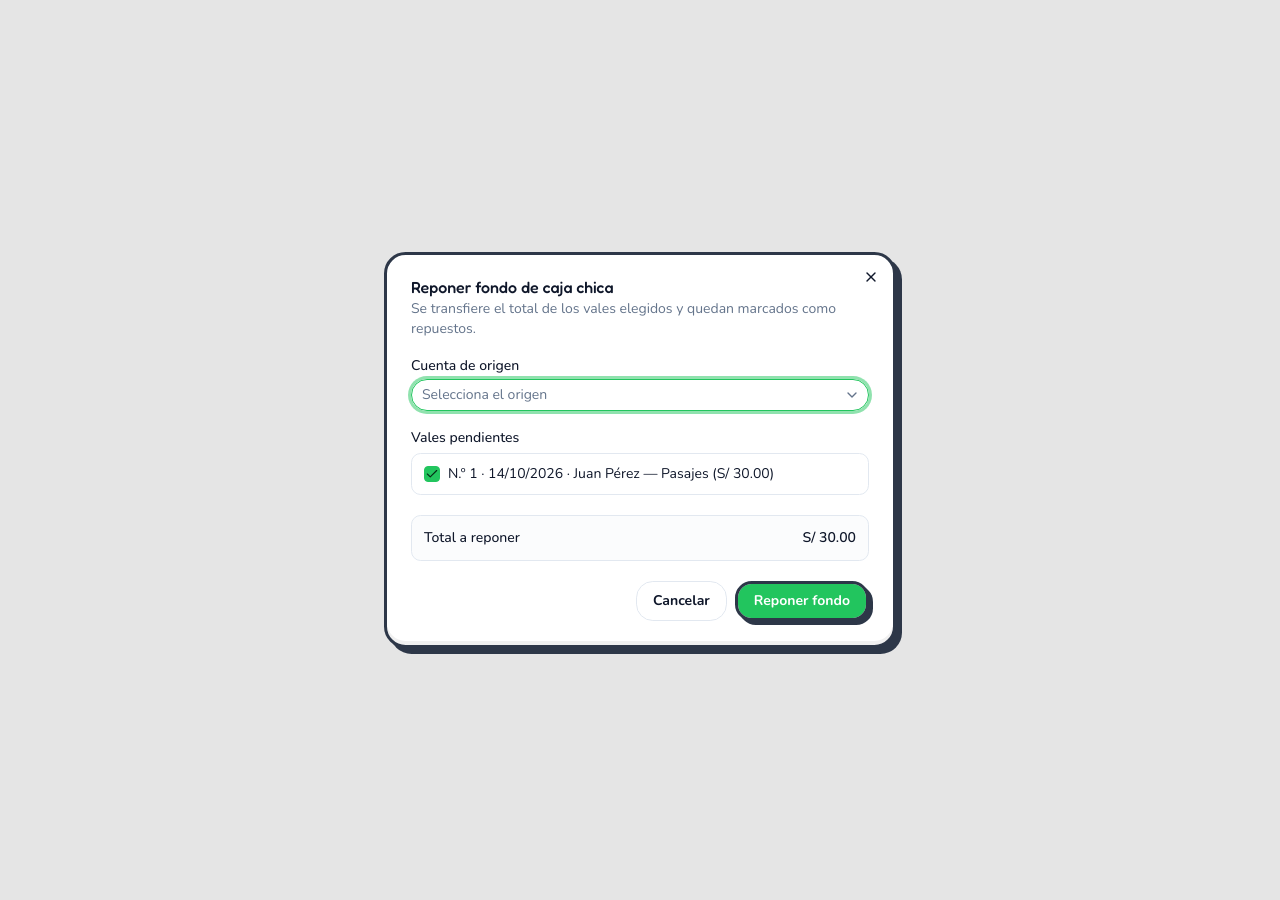
Scenario: PettyCashReplenishModal › exige elegir la cuenta de origen cuando hay varias candidatas
The width and height of the screenshot is (1280, 900).
Click the button "Reponer fondo" at x=802, y=601, box [735, 581, 869, 621]
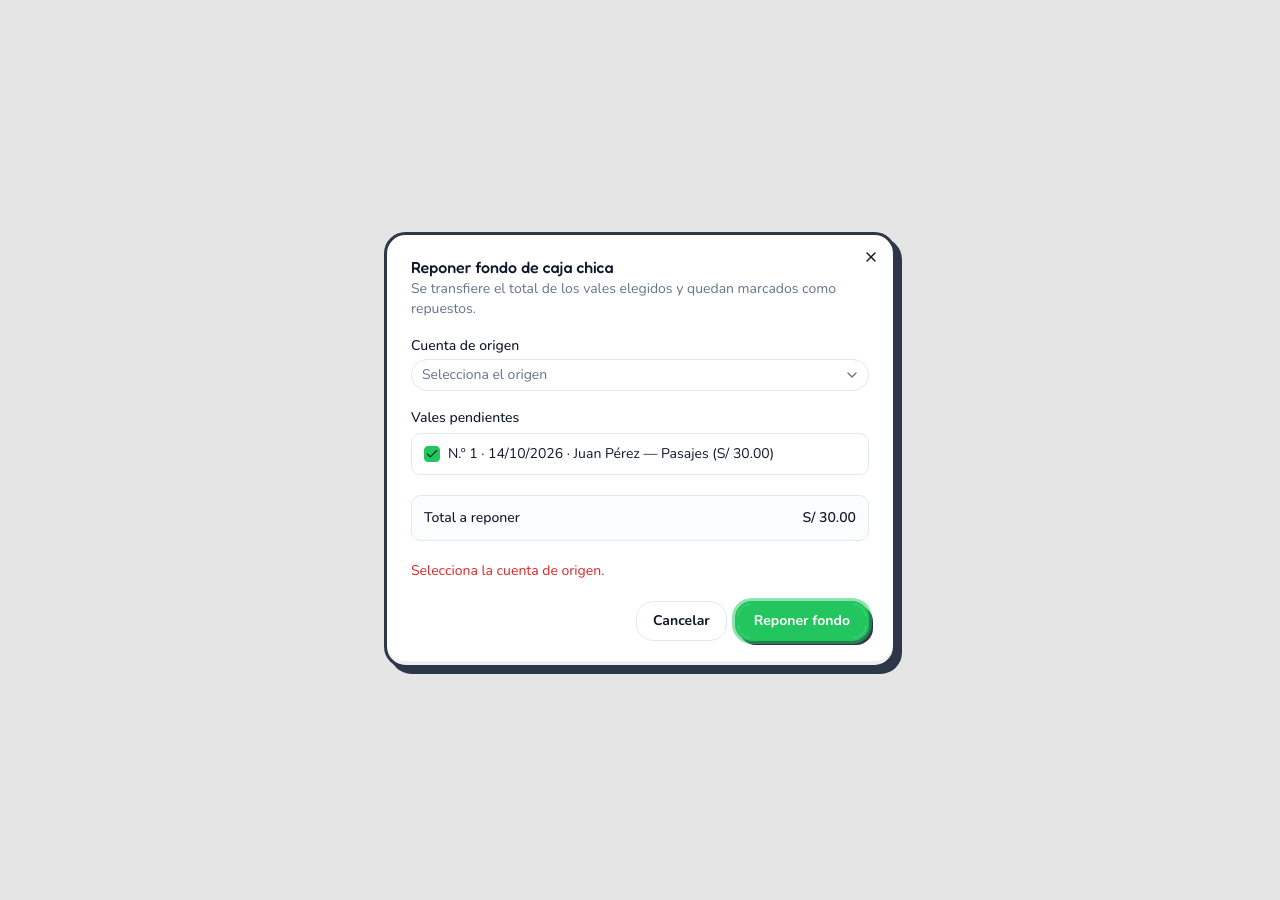
Check: the text "Selecciona la cuenta de origen." is shown, box [411, 561, 604, 580]
